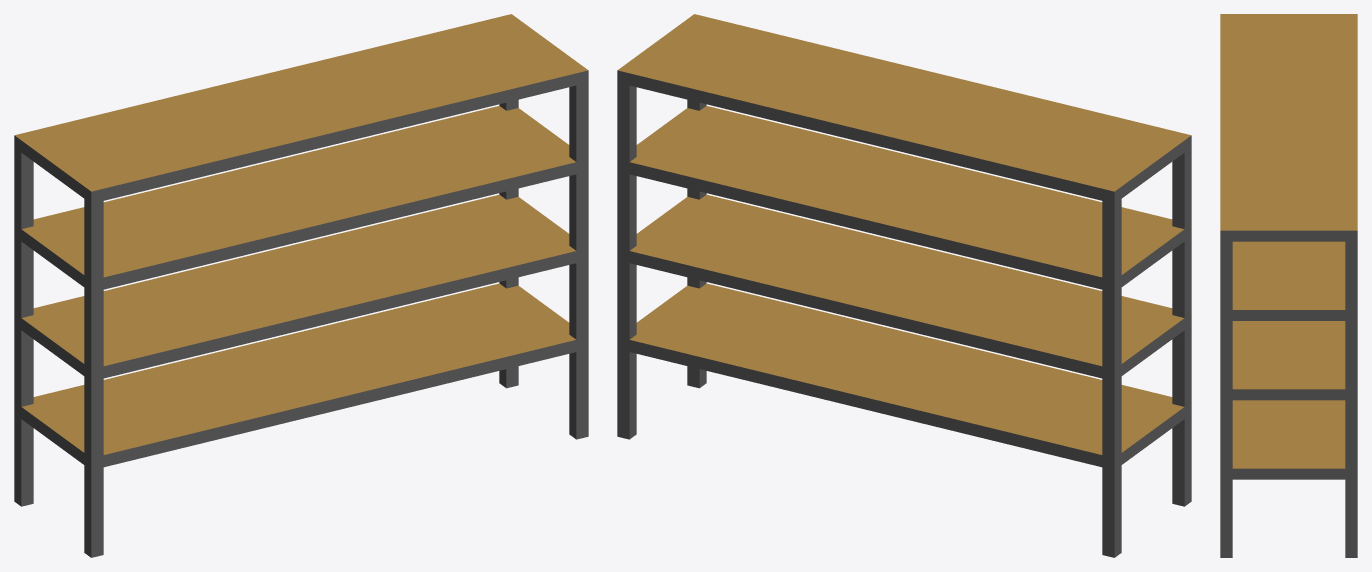
File: stelaj 1.fbx
3 views of the same model, side by side, from view 1: azimuth 30°, elevation 25°; view 2: azimuth 150°, elevation 25°; view 3: azimuth 270°, elevation 25° (orthographic). The views are drawn at different scales.
Parts seen in each view (by area): view 1: Cube; view 2: Cube; view 3: Cube.
Part boxes in pixels (box(x1,y1,x2,y2)): Cube: box(14, 14, 588, 557); Cube: box(617, 14, 1191, 557); Cube: box(1220, 14, 1357, 557).
Size of the model in its own units: 4.1 by 2.89 by 1.1.
